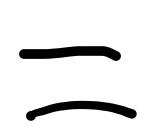eqv: (16, 43, 140, 121)
